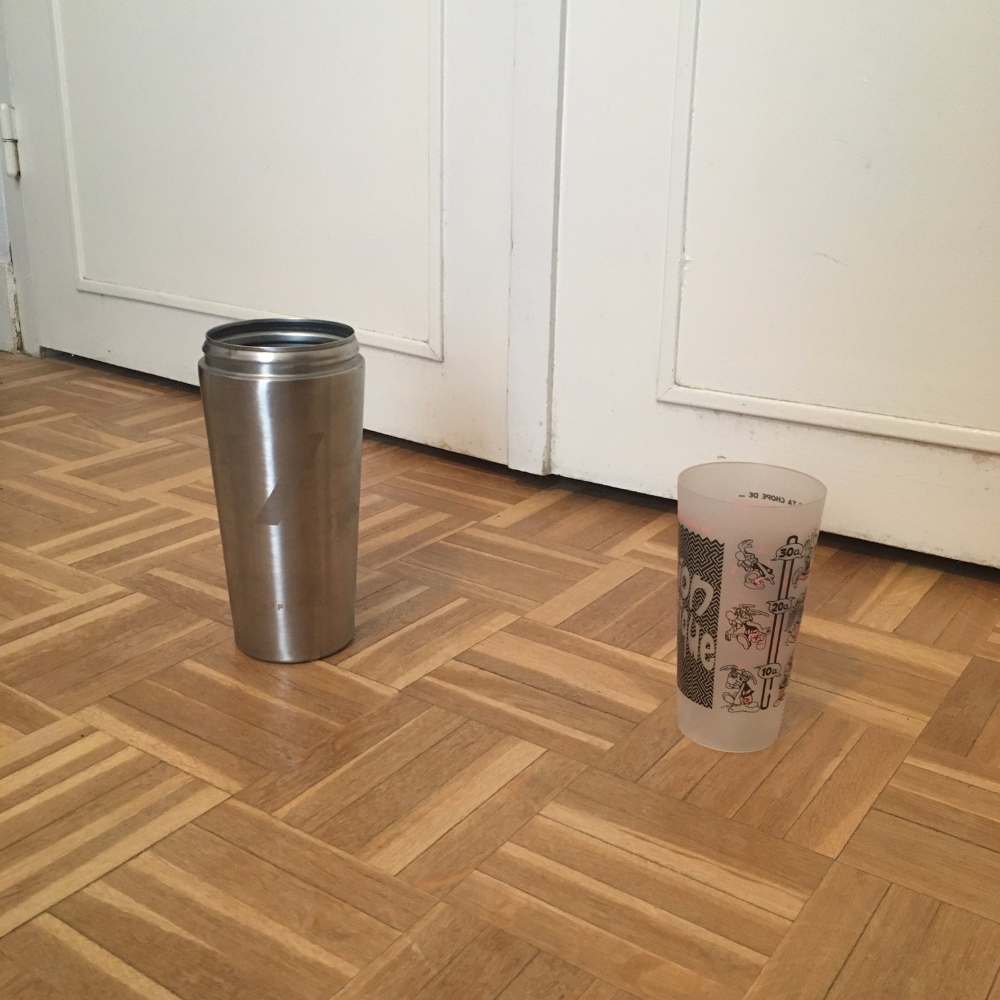ecocup: (677, 462, 827, 753)
